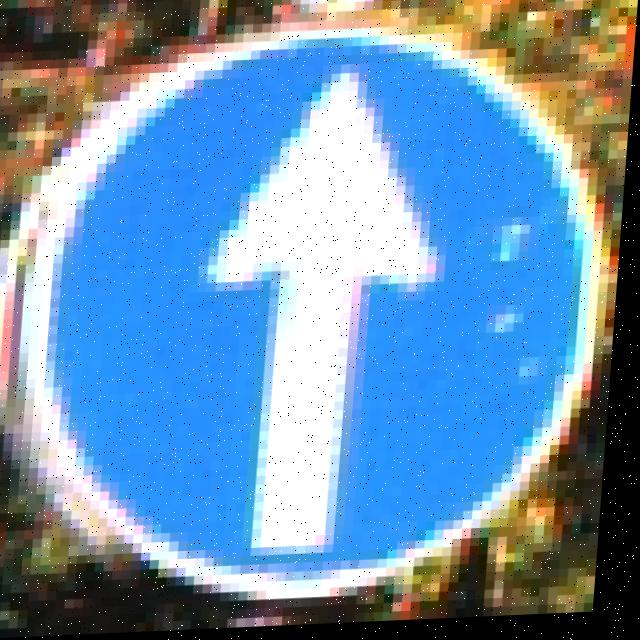compulsory_ahead: (0, 0, 612, 613)
